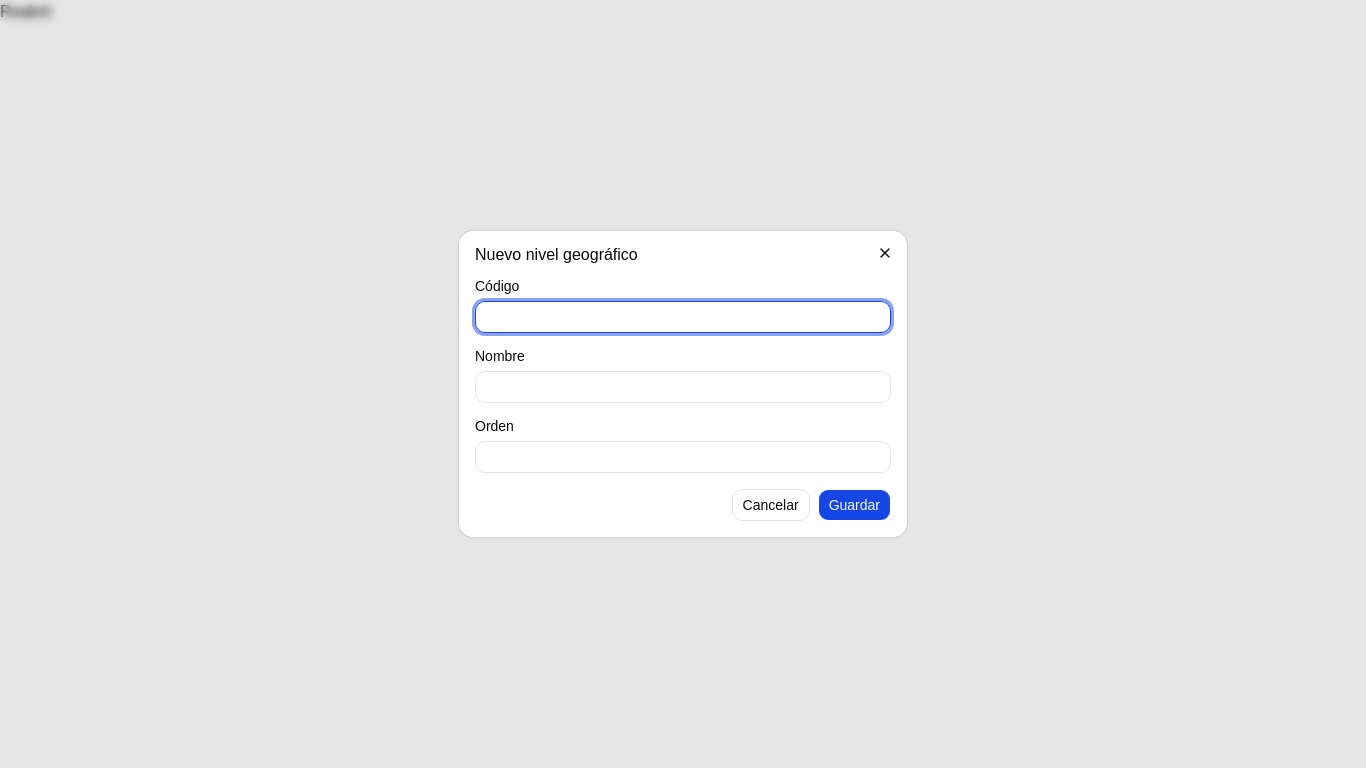
GeoLevelTypeFormDialog — mapeo de errores › un 409 con GEOTYPE_001_CODE_EXISTS marca el campo código, no un toast genérico
This screenshot has width=1366, height=768.
Type "CTRY" into the field labelled "Código" at (683, 317), box [475,301,891,333]
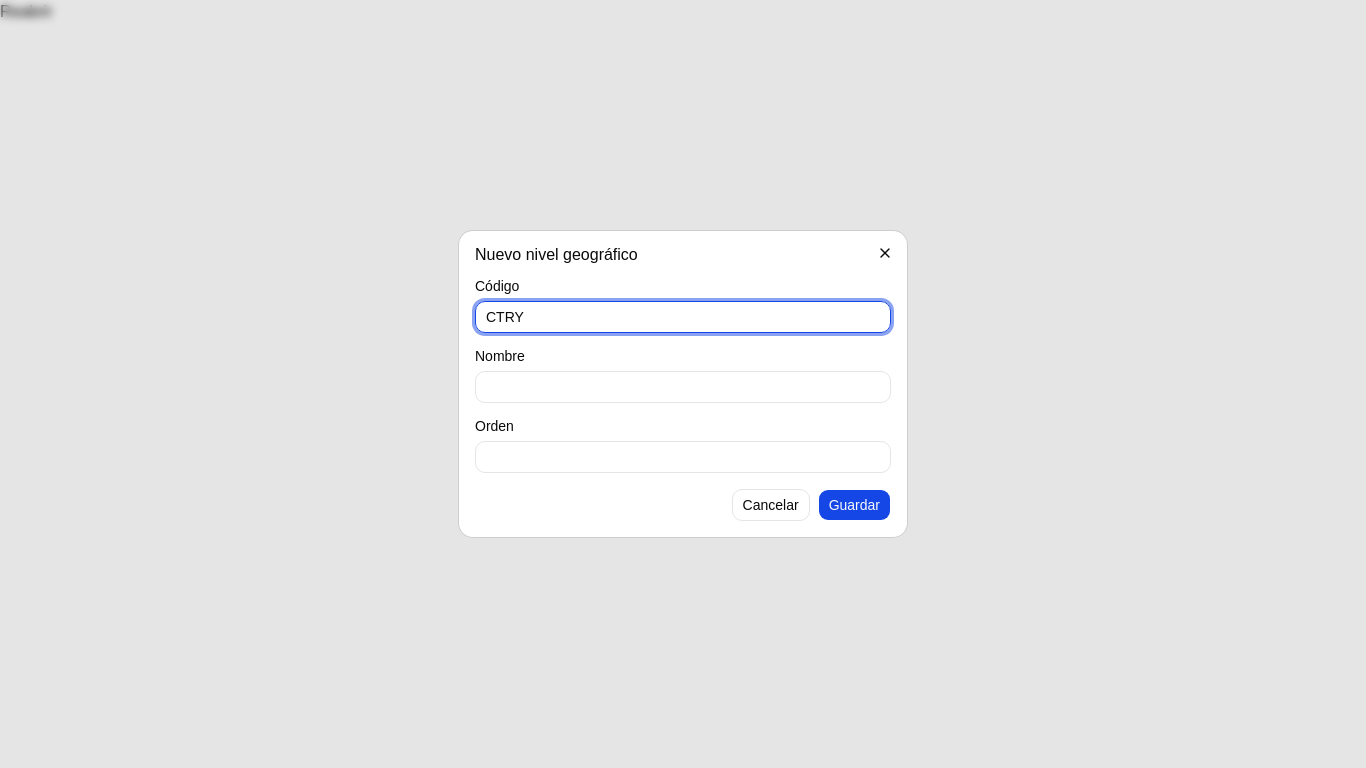
Type "País" into the field labelled "Nombre" at (683, 387), box [475,371,891,403]
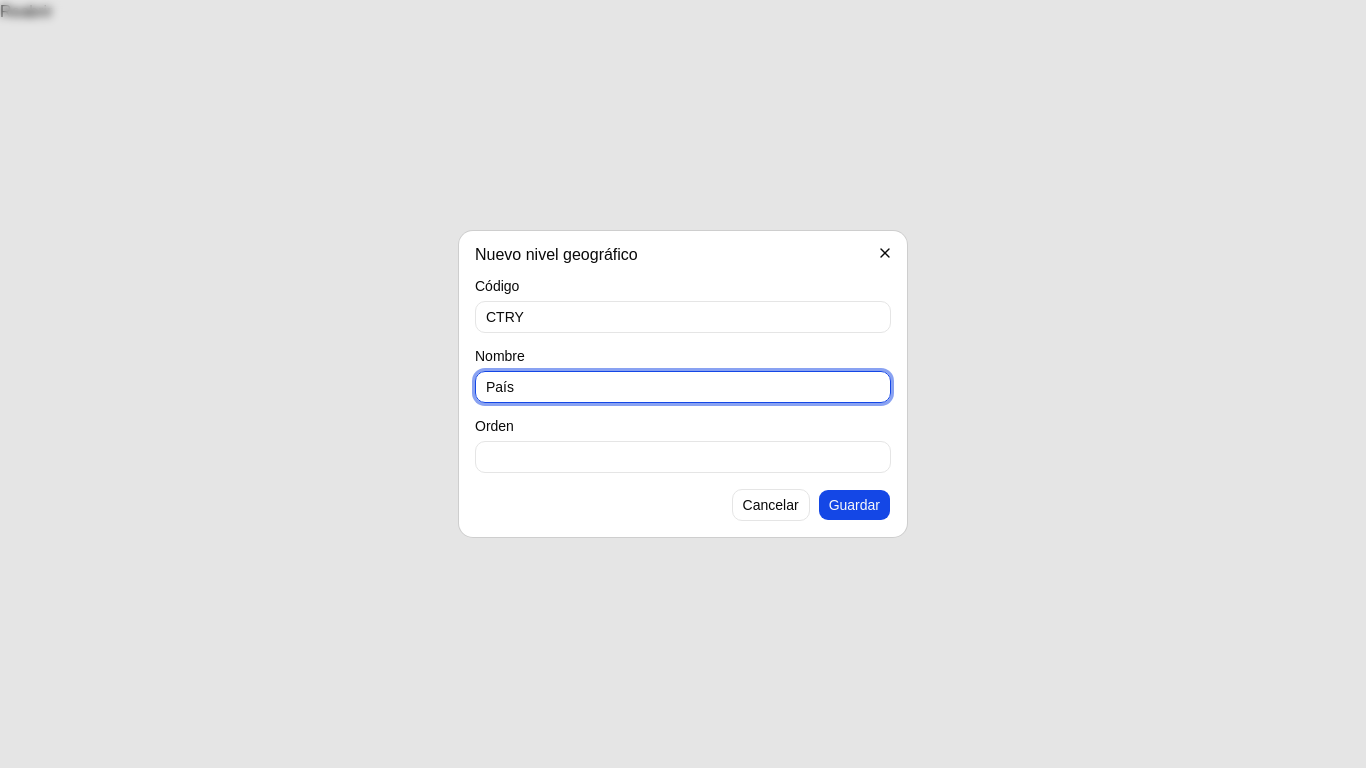
Type "1" into the number field labelled "Orden" at (683, 457), box [475,441,891,473]
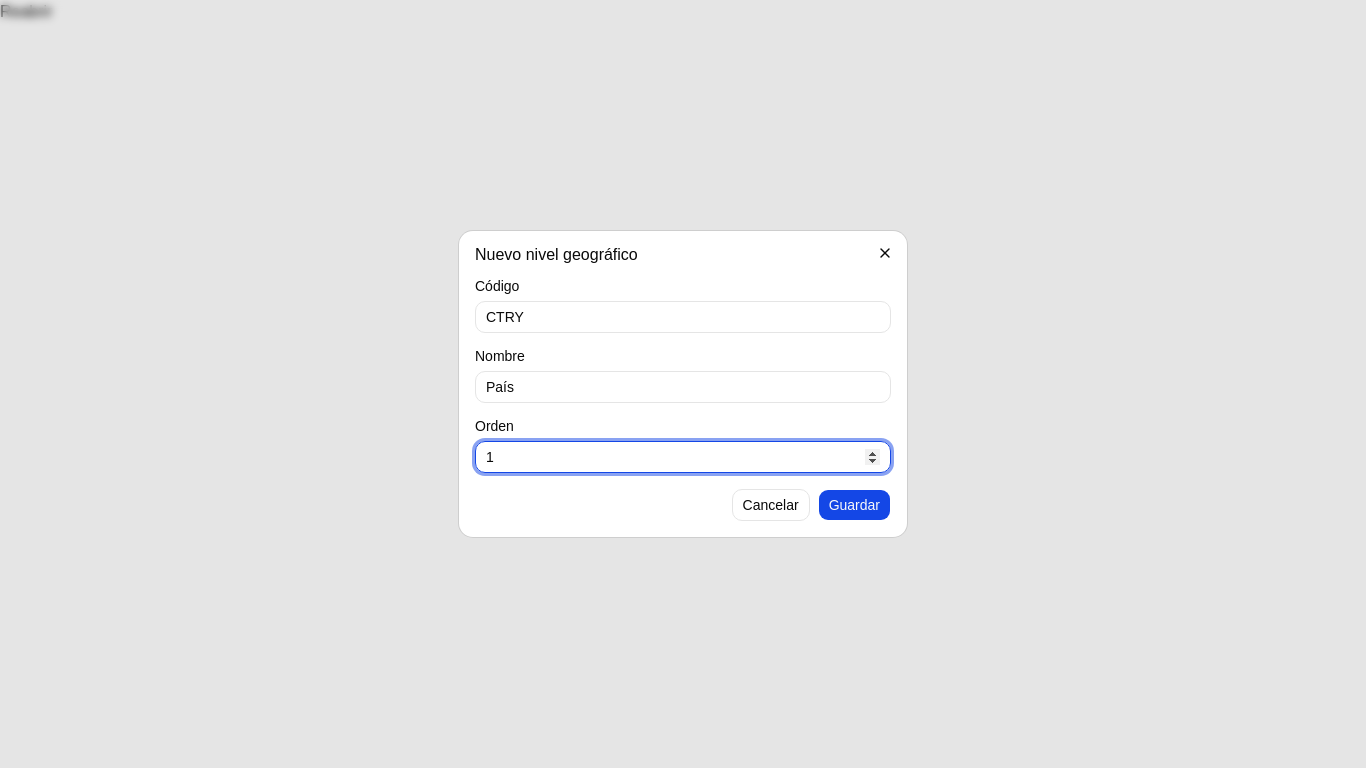
Click the button "Guardar" at (854, 505), box [818,489,891,521]
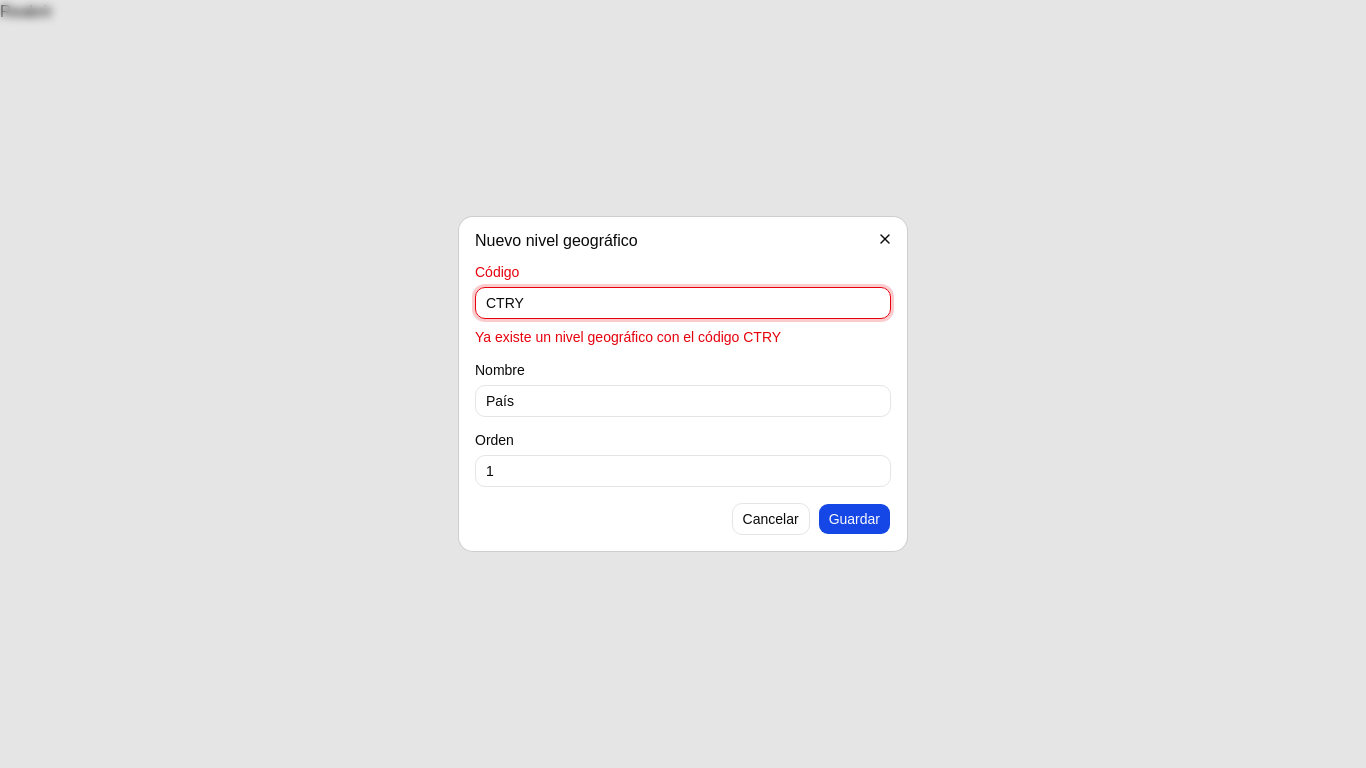
Expected: the text "Ya existe un nivel geográfico con el código CTRY" is shown, [475,329,781,345]
